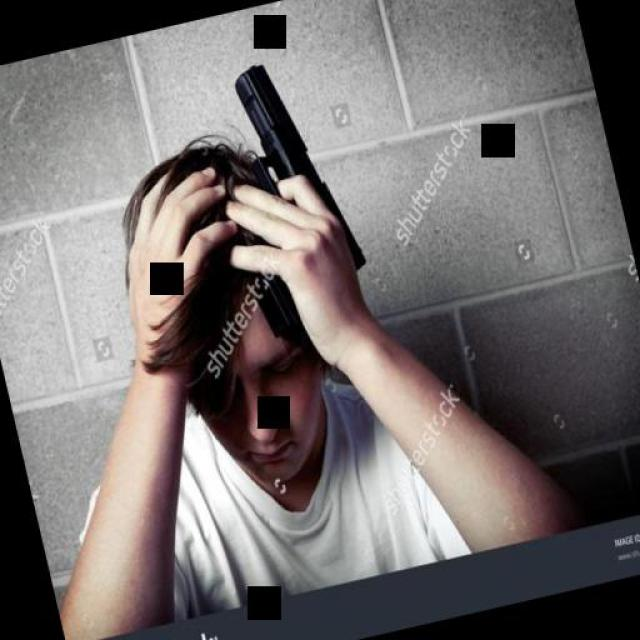gun: (201, 41, 371, 351)
